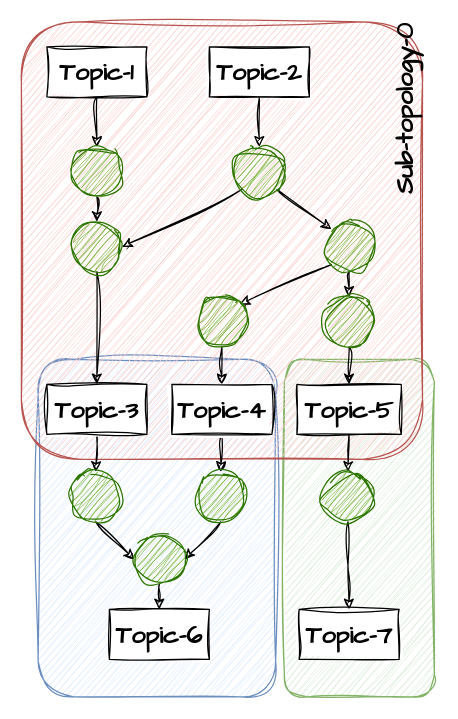
The diagram is 458 pixels wide and 719 high, and some of its shapes have lost their labels. Here are the shapes that lost their labels. From the top down, the box of each, then its label:
(37, 358, 276, 697): Sub-topology-1
(283, 358, 434, 697): Sub-topology-2
